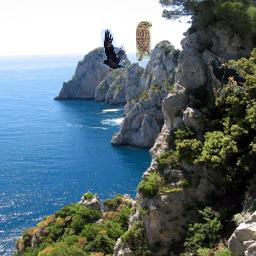Crow: (207, 57, 246, 97), (101, 29, 126, 69)
Sparrow: (136, 21, 152, 61)
